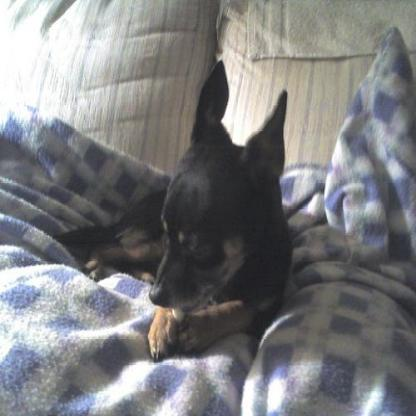miniature_pinscher: (52, 58, 292, 362)
